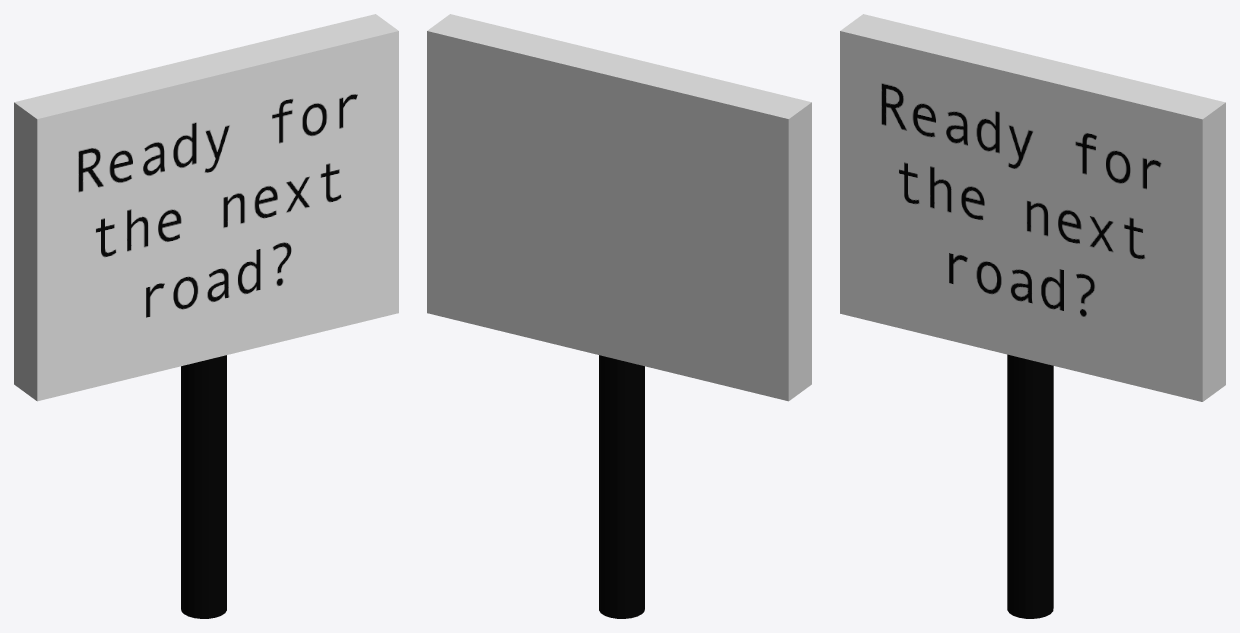
File: teleport_sign.fbx
3 renders of one model, left to right at view 1: azimuth 30°, elevation 25°; view 2: azimuth 150°, elevation 25°; view 3: azimuth 330°, elevation 25°, orthographic.
Parts seen in each view (by area): view 1: TELEPORT_SIGN; view 2: TELEPORT_SIGN; view 3: TELEPORT_SIGN.
Part boxes in pixels (bbox=[...]): TELEPORT_SIGN: bbox=[14, 14, 398, 618]; TELEPORT_SIGN: bbox=[427, 14, 811, 618]; TELEPORT_SIGN: bbox=[840, 14, 1225, 618].
Bounding box in the file's own units: 9.03 × 12.92 × 1.
